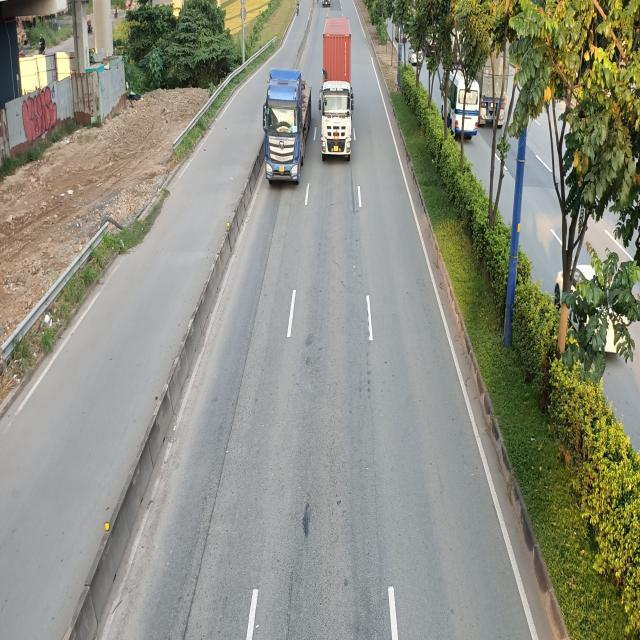container: (263, 68, 313, 188), (320, 18, 356, 160)
